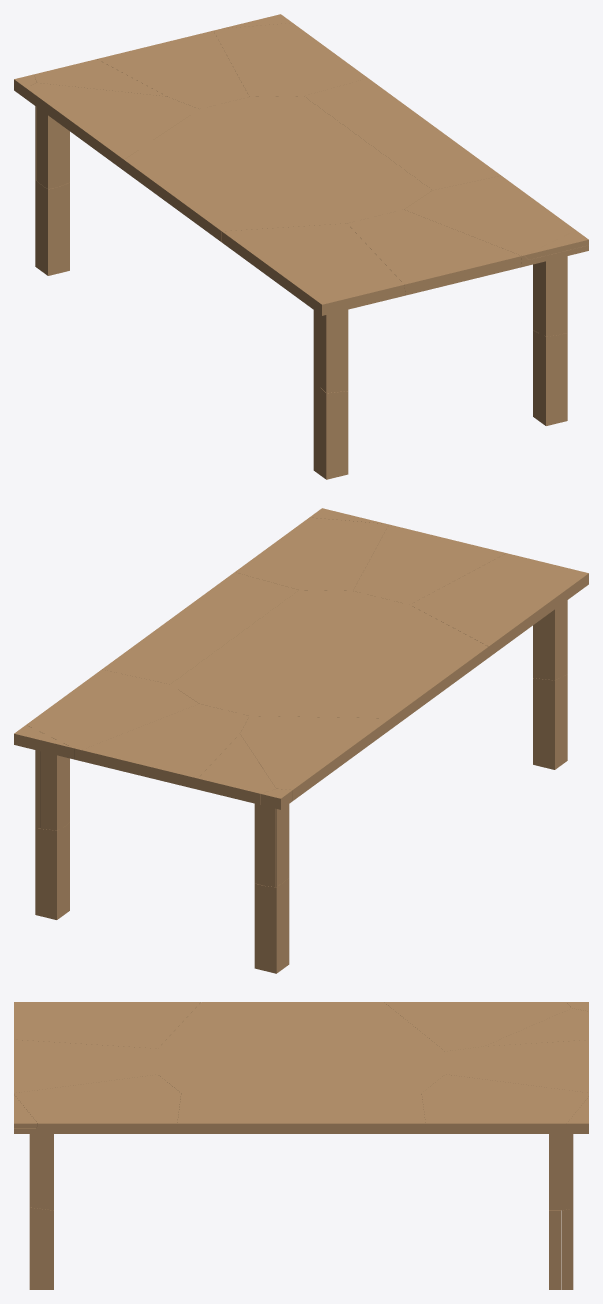
The model's file is Broken Table.fbx.
3 views of the same model, one above another, from view 1: azimuth 30°, elevation 25°; view 2: azimuth 150°, elevation 25°; view 3: azimuth 270°, elevation 25° (orthographic). The views are drawn at different scales.
Parts seen in each view (by area): view 1: Table_cell.005, Table_cell.019, Table_cell.013, Table_cell.010, Table_cell.014, Table_cell.015, Table_cell.001, Table_cell.017, Table_cell.002, Table_cell, Table_cell.012, Table_cell.006 (+4 smaller); view 2: Table_cell.005, Table_cell.019, Table_cell.001, Table_cell.014, Table_cell.013, Table_cell.017, Table_cell.010, Table_cell.015, Table_cell, Table_cell.002, Table_cell.004, Table_cell.006 (+4 smaller); view 3: Table_cell.005, Table_cell.014, Table_cell.001, Table_cell.010, Table_cell.019, Table_cell.015, Table_cell.017, Table_cell.013, Table_cell.011, Table_cell, Table_cell.004, Table_cell.018 (+2 smaller).
Boxes of the visible parts, x1,y1,x2,y2 form: Table_cell.005: (124,96,432,242); Table_cell.019: (222,223,405,393); Table_cell.013: (26,82,198,189); Table_cell.010: (404,175,575,336); Table_cell.014: (304,78,500,190); Table_cell.015: (347,209,521,295); Table_cell.001: (213,23,367,96); Table_cell.017: (97,30,249,108); Table_cell.002: (313,381,348,479); Table_cell: (34,59,166,96); Table_cell.012: (533,330,556,425); Table_cell.006: (35,180,58,275); Table_cell.005: (170,590,488,728); Table_cell.019: (410,553,588,680); Table_cell.001: (26,669,198,830); Table_cell.014: (102,572,298,684); Table_cell.013: (240,716,390,885); Table_cell.017: (81,704,249,789); Table_cell.010: (235,517,388,590); Table_cell.015: (353,524,506,604); Table_cell: (198,734,276,886); Table_cell.002: (533,674,567,769); Table_cell.004: (35,828,63,919); Table_cell.006: (265,878,289,973); Table_cell.005: (158,1002,445,1093); Table_cell.014: (177,1093,425,1133); Table_cell.001: (421,1074,588,1210); Table_cell.010: (14,1074,181,1210); Table_cell.019: (14,1002,200,1048); Table_cell.015: (14,1039,157,1092); Table_cell.017: (445,1040,588,1092); Table_cell.013: (384,1002,571,1051); Table_cell.011: (29,1207,53,1289); Table_cell: (485,1008,588,1046); Table_cell.004: (561,1209,573,1289); Table_cell.018: (549,1210,560,1289).
Size of the model in its own units: 500 by 330 by 1000.
